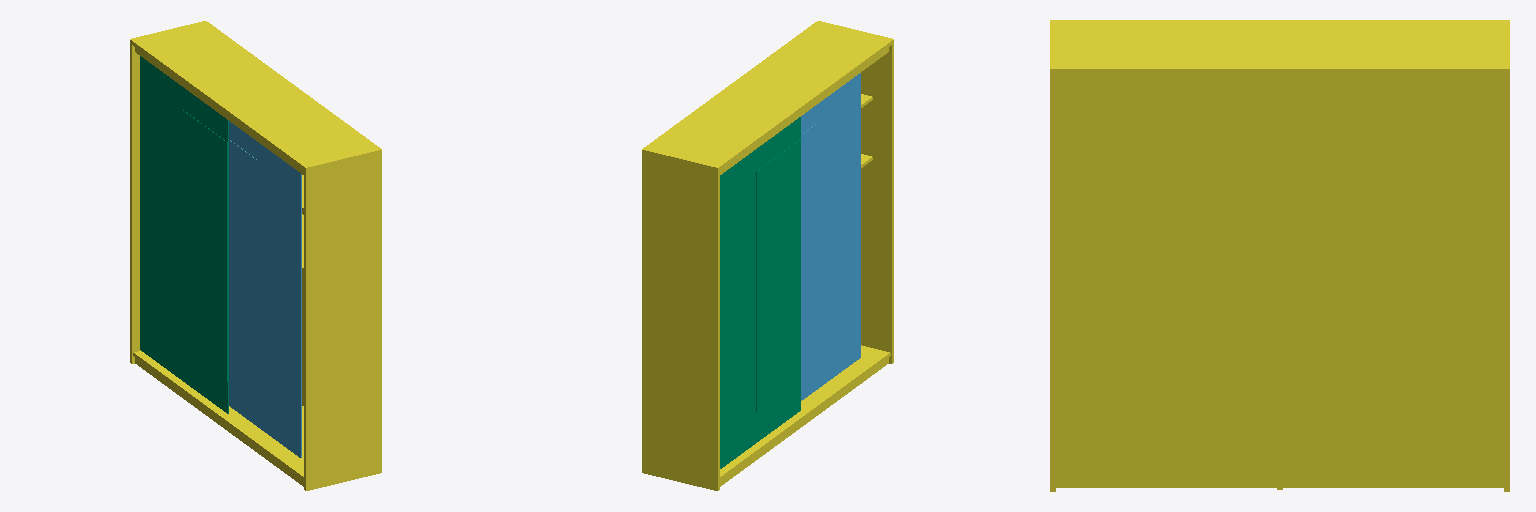
robot.urdf — partnet_c5212968cd5ef1dc3c6e7539caf3791c:
<?xml version="1.0" ?>
<robot name="partnet_c5212968cd5ef1dc3c6e7539caf3791c">
	<link name="base"/>
	<link name="link_0">
		<visual name="cabinet_door_surface-6">
			<origin xyz="0 0 0"/>
			<geometry>
				<mesh filename="textured_objs/original-17.obj"/>
			</geometry>
		</visual>
		<visual name="cabinet_door_surface-6">
			<origin xyz="0 0 0"/>
			<geometry>
				<mesh filename="textured_objs/original-16.obj"/>
			</geometry>
		</visual>
		<collision>
			<origin xyz="0 0 0"/>
			<geometry>
				<mesh filename="textured_objs/original-17.obj"/>
			</geometry>
		</collision>
		<collision>
			<origin xyz="0 0 0"/>
			<geometry>
				<mesh filename="textured_objs/original-16.obj"/>
			</geometry>
		</collision>
	</link>
	<joint name="joint_0" type="prismatic">
		<origin xyz="0 0 0"/>
		<axis xyz="-1 0 0"/>
		<child link="link_0"/>
		<parent link="link_2"/>
		<limit lower="-0.1200000000000001" upper="0.536"/>
	</joint>
	<link name="link_1">
		<visual name="cabinet_door_surface-5">
			<origin xyz="0 0 0"/>
			<geometry>
				<mesh filename="textured_objs/original-14.obj"/>
			</geometry>
		</visual>
		<visual name="cabinet_door_surface-5">
			<origin xyz="0 0 0"/>
			<geometry>
				<mesh filename="textured_objs/original-13.obj"/>
			</geometry>
		</visual>
		<collision>
			<origin xyz="0 0 0"/>
			<geometry>
				<mesh filename="textured_objs/original-14.obj"/>
			</geometry>
		</collision>
		<collision>
			<origin xyz="0 0 0"/>
			<geometry>
				<mesh filename="textured_objs/original-13.obj"/>
			</geometry>
		</collision>
	</link>
	<joint name="joint_1" type="prismatic">
		<origin xyz="0 0 0"/>
		<axis xyz="1 0 0"/>
		<child link="link_1"/>
		<parent link="link_2"/>
		<limit lower="0" upper="0.6600000000000001"/>
	</joint>
	<link name="link_2">
		<visual name="shelf-8">
			<origin xyz="0 0 0"/>
			<geometry>
				<mesh filename="textured_objs/original-5.obj"/>
			</geometry>
		</visual>
		<visual name="shelf-8">
			<origin xyz="0 0 0"/>
			<geometry>
				<mesh filename="textured_objs/original-9.obj"/>
			</geometry>
		</visual>
		<visual name="shelf-9">
			<origin xyz="0 0 0"/>
			<geometry>
				<mesh filename="textured_objs/original-10.obj"/>
			</geometry>
		</visual>
		<visual name="shelf-9">
			<origin xyz="0 0 0"/>
			<geometry>
				<mesh filename="textured_objs/original-19.obj"/>
			</geometry>
		</visual>
		<visual name="vertical_side_panel-10">
			<origin xyz="0 0 0"/>
			<geometry>
				<mesh filename="textured_objs/original-3.obj"/>
			</geometry>
		</visual>
		<visual name="vertical_side_panel-11">
			<origin xyz="0 0 0"/>
			<geometry>
				<mesh filename="textured_objs/original-2.obj"/>
			</geometry>
		</visual>
		<visual name="vertical_divider_panel-12">
			<origin xyz="0 0 0"/>
			<geometry>
				<mesh filename="textured_objs/original-18.obj"/>
			</geometry>
		</visual>
		<visual name="back_panel-13">
			<origin xyz="0 0 0"/>
			<geometry>
				<mesh filename="textured_objs/original-4.obj"/>
			</geometry>
		</visual>
		<visual name="back_panel-13">
			<origin xyz="0 0 0"/>
			<geometry>
				<mesh filename="textured_objs/original-7.obj"/>
			</geometry>
		</visual>
		<visual name="bottom_panel-14">
			<origin xyz="0 0 0"/>
			<geometry>
				<mesh filename="textured_objs/original-6.obj"/>
			</geometry>
		</visual>
		<visual name="bottom_panel-14">
			<origin xyz="0 0 0"/>
			<geometry>
				<mesh filename="textured_objs/original-1.obj"/>
			</geometry>
		</visual>
		<visual name="top_panel-15">
			<origin xyz="0 0 0"/>
			<geometry>
				<mesh filename="textured_objs/original-11.obj"/>
			</geometry>
		</visual>
		<visual name="top_panel-15">
			<origin xyz="0 0 0"/>
			<geometry>
				<mesh filename="textured_objs/original-8.obj"/>
			</geometry>
		</visual>
		<collision>
			<origin xyz="0 0 0"/>
			<geometry>
				<mesh filename="textured_objs/original-5.obj"/>
			</geometry>
		</collision>
		<collision>
			<origin xyz="0 0 0"/>
			<geometry>
				<mesh filename="textured_objs/original-9.obj"/>
			</geometry>
		</collision>
		<collision>
			<origin xyz="0 0 0"/>
			<geometry>
				<mesh filename="textured_objs/original-10.obj"/>
			</geometry>
		</collision>
		<collision>
			<origin xyz="0 0 0"/>
			<geometry>
				<mesh filename="textured_objs/original-19.obj"/>
			</geometry>
		</collision>
		<collision>
			<origin xyz="0 0 0"/>
			<geometry>
				<mesh filename="textured_objs/original-3.obj"/>
			</geometry>
		</collision>
		<collision>
			<origin xyz="0 0 0"/>
			<geometry>
				<mesh filename="textured_objs/original-2.obj"/>
			</geometry>
		</collision>
		<collision>
			<origin xyz="0 0 0"/>
			<geometry>
				<mesh filename="textured_objs/original-18.obj"/>
			</geometry>
		</collision>
		<collision>
			<origin xyz="0 0 0"/>
			<geometry>
				<mesh filename="textured_objs/original-4.obj"/>
			</geometry>
		</collision>
		<collision>
			<origin xyz="0 0 0"/>
			<geometry>
				<mesh filename="textured_objs/original-7.obj"/>
			</geometry>
		</collision>
		<collision>
			<origin xyz="0 0 0"/>
			<geometry>
				<mesh filename="textured_objs/original-6.obj"/>
			</geometry>
		</collision>
		<collision>
			<origin xyz="0 0 0"/>
			<geometry>
				<mesh filename="textured_objs/original-1.obj"/>
			</geometry>
		</collision>
		<collision>
			<origin xyz="0 0 0"/>
			<geometry>
				<mesh filename="textured_objs/original-11.obj"/>
			</geometry>
		</collision>
		<collision>
			<origin xyz="0 0 0"/>
			<geometry>
				<mesh filename="textured_objs/original-8.obj"/>
			</geometry>
		</collision>
	</link>
	<joint name="joint_2" type="fixed">
		<origin rpy="1.570796326794897 0 -1.570796326794897" xyz="0 0 0"/>
		<child link="link_2"/>
		<parent link="base"/>
	</joint>
</robot>

--- Render facts (derived) ---
3 views of the same robot in one strip: view 1: azimuth 30°, elevation 25°; view 2: azimuth 150°, elevation 25°; view 3: azimuth 270°, elevation 25° (orthographic).
Robot: partnet_c5212968cd5ef1dc3c6e7539caf3791c — 4 links, 3 joints (2 prismatic, 1 fixed); root link base; default pose: every joint at zero.
Links seen in each view (by area): view 1: link_2, link_1, link_0; view 2: link_2, link_1, link_0; view 3: link_2.
Link boxes in pixels (box(x1,y1,x2,y2)): link_2: box(130, 21, 381, 490); link_1: box(140, 56, 228, 413); link_0: box(229, 121, 301, 457); link_2: box(642, 21, 893, 490); link_1: box(720, 117, 800, 468); link_0: box(801, 73, 860, 400); link_2: box(1050, 20, 1509, 491).
Bounding box of the posed robot: 0.3494 × 1.4 × 1.42 m (x, y, z).
17 mesh visuals loaded from 17 distinct referenced files (17 OBJ).
